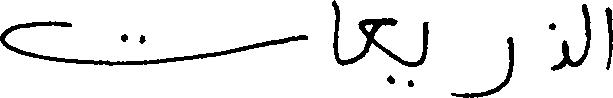X: (0, 16, 305, 70), (454, 32, 512, 97), (361, 13, 393, 88), (552, 18, 566, 75), (606, 2, 612, 74), (333, 0, 339, 68), (420, 17, 427, 69), (585, 0, 590, 63)
